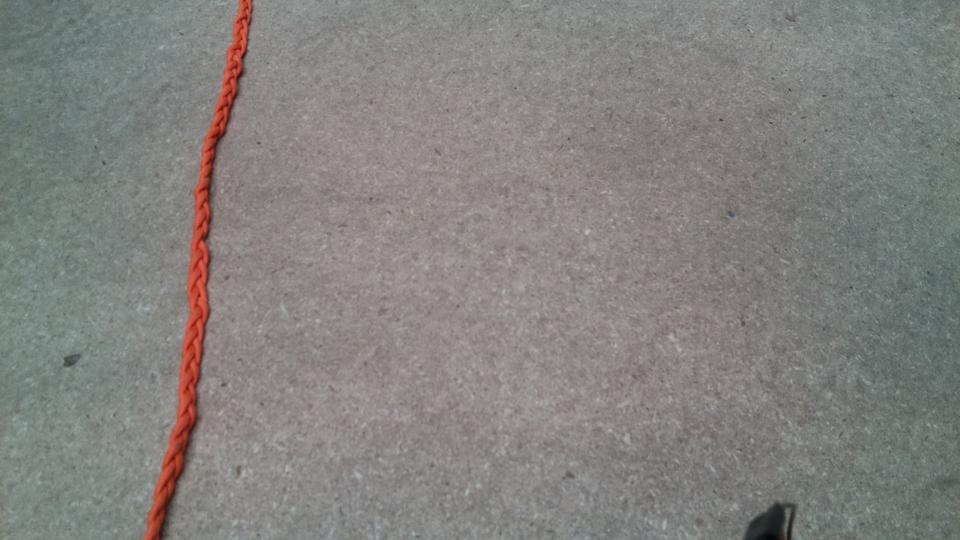rope: (138, 1, 256, 540)
